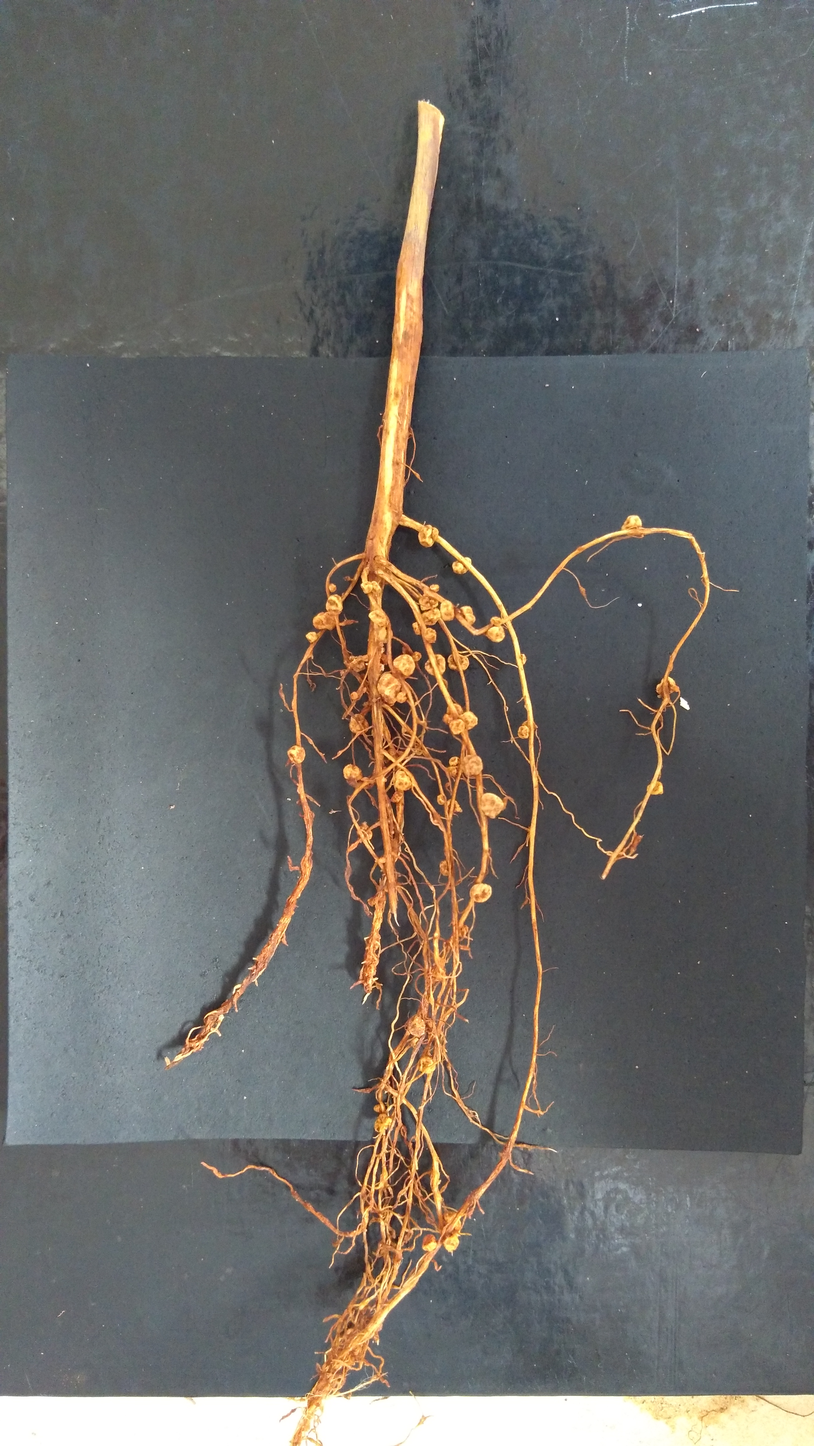nodule: (376, 673, 401, 704), (437, 1209, 461, 1236), (392, 654, 416, 678), (481, 793, 503, 819), (655, 675, 680, 696), (418, 524, 438, 548), (469, 883, 493, 903), (344, 1327, 361, 1355), (424, 654, 445, 676), (461, 754, 482, 776), (317, 1371, 339, 1392), (407, 1013, 425, 1038), (349, 713, 369, 735), (458, 710, 478, 731), (447, 652, 469, 671), (313, 612, 336, 630), (620, 515, 643, 533), (394, 770, 413, 791), (373, 623, 392, 643), (421, 607, 441, 626), (326, 594, 344, 615), (426, 965, 447, 983), (419, 593, 439, 611), (343, 764, 363, 782), (485, 625, 506, 642), (287, 745, 305, 764), (368, 610, 388, 627), (459, 605, 475, 626), (452, 557, 471, 574), (347, 655, 366, 672), (417, 1056, 436, 1073), (356, 823, 373, 841), (375, 1114, 392, 1132), (645, 780, 664, 796), (440, 600, 454, 621), (449, 718, 466, 735), (422, 1233, 437, 1252), (443, 1235, 459, 1252), (446, 798, 463, 813), (367, 931, 380, 950), (424, 627, 437, 644), (446, 703, 463, 716), (364, 953, 380, 966), (521, 719, 538, 731), (439, 858, 451, 875), (360, 580, 373, 594), (371, 580, 382, 596), (517, 725, 529, 739), (360, 777, 374, 789), (390, 790, 402, 803), (363, 965, 376, 977), (412, 621, 423, 635), (396, 691, 407, 704), (425, 1016, 436, 1029), (306, 632, 318, 643), (447, 765, 458, 777), (442, 714, 454, 725), (411, 651, 422, 662), (449, 756, 461, 766), (490, 616, 501, 626), (380, 653, 389, 665), (377, 854, 387, 864), (401, 644, 410, 655), (520, 653, 527, 666), (328, 583, 337, 593), (437, 794, 445, 805), (387, 748, 398, 756), (429, 584, 439, 592), (367, 896, 375, 906), (373, 1104, 383, 1112), (350, 691, 358, 700), (460, 925, 469, 933), (378, 661, 385, 671), (343, 576, 351, 581), (362, 685, 367, 693), (339, 669, 344, 676), (372, 697, 377, 703), (390, 829, 395, 835), (381, 647, 385, 654), (379, 642, 384, 647), (363, 701, 368, 706), (383, 778, 387, 782)
